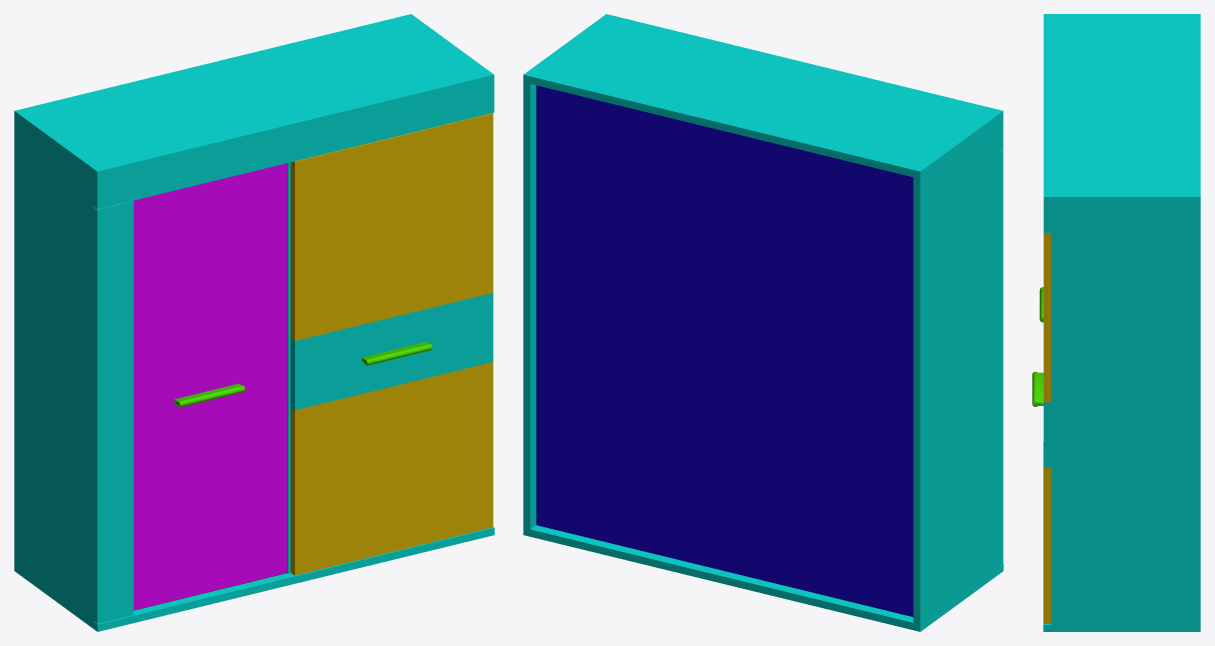
File: cupboard.fbx
The picture shows the model from 3 angles, left to right: view 1: azimuth 30°, elevation 25°; view 2: azimuth 150°, elevation 25°; view 3: azimuth 270°, elevation 25°; orthographic projection. The views are drawn at different scales.
Visible parts, largest first — view 1: #CPB0004_Wood_Gray_Wall_Glass_Door, #CPB0004_Door_R, #CPB0004_Door_L; view 2: #CPB0004_Wood_Gray_Wall_Glass_Door, #CPB0004_Door_L; view 3: #CPB0004_Wood_Gray_Wall_Glass_Door, #CPB0004_Door_R.
Boxes of the visible parts, x1,y1,x2,y2 form: #CPB0004_Wood_Gray_Wall_Glass_Door: (14,14,494,631); #CPB0004_Door_R: (290,113,493,575); #CPB0004_Door_L: (93,163,287,623); #CPB0004_Wood_Gray_Wall_Glass_Door: (523,14,1003,631); #CPB0004_Door_L: (999,149,1003,565); #CPB0004_Wood_Gray_Wall_Glass_Door: (1043,14,1200,631); #CPB0004_Door_R: (1032,233,1051,623).
Size of the model in its own units: 0.9 by 0.997 by 0.3496.
